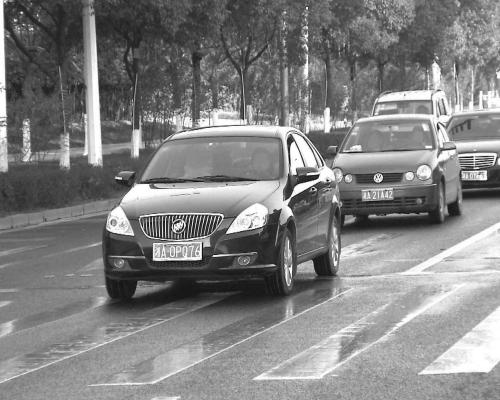Carplate: (148, 240, 206, 262), (362, 186, 394, 204)
